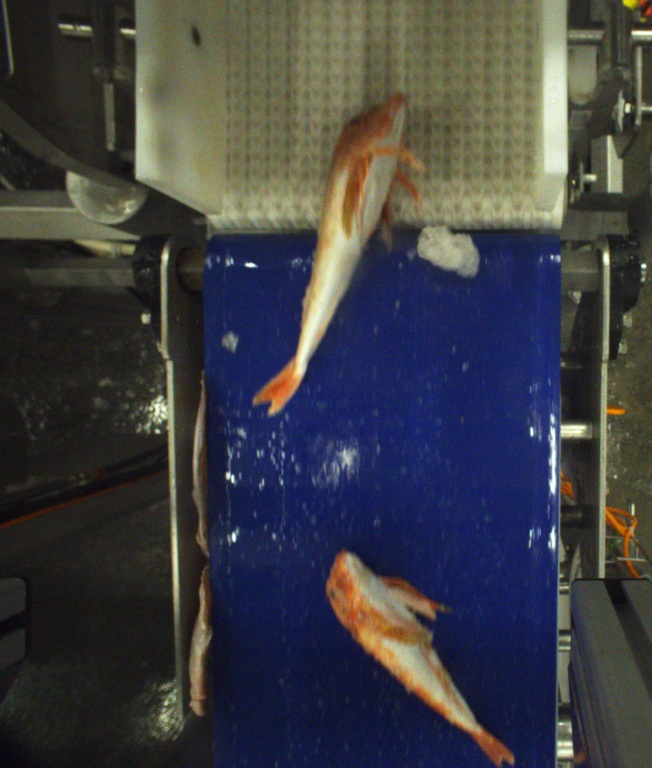GUU: (325, 552, 519, 768)
